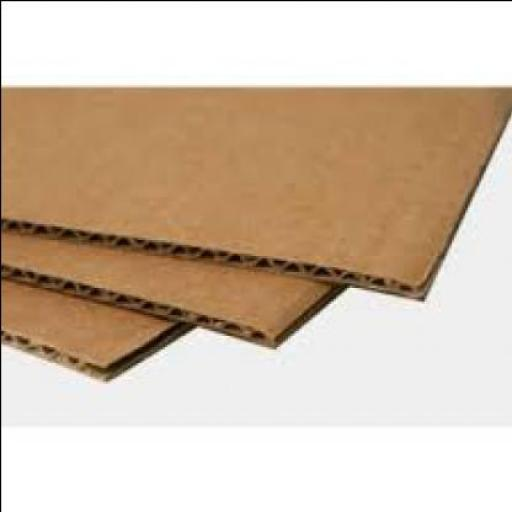cardboard: (2, 84, 511, 299), (2, 230, 351, 346), (2, 274, 196, 380)
